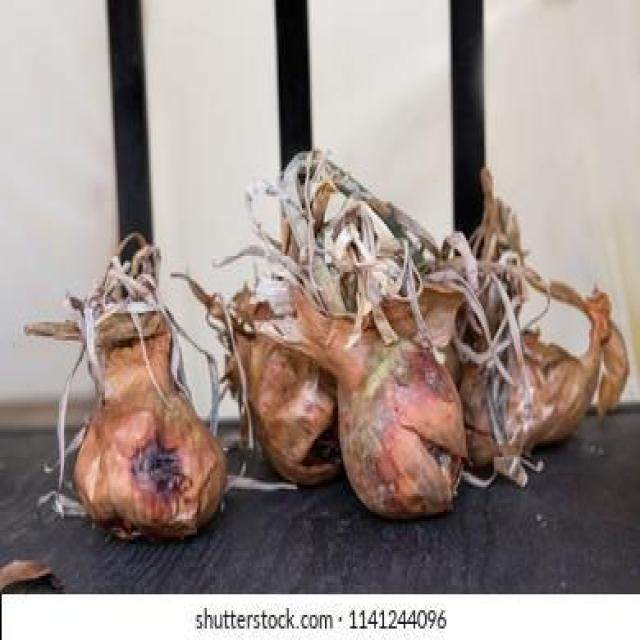Onion: (74, 284, 225, 540), (336, 277, 469, 514), (225, 292, 346, 487), (463, 327, 602, 471)
